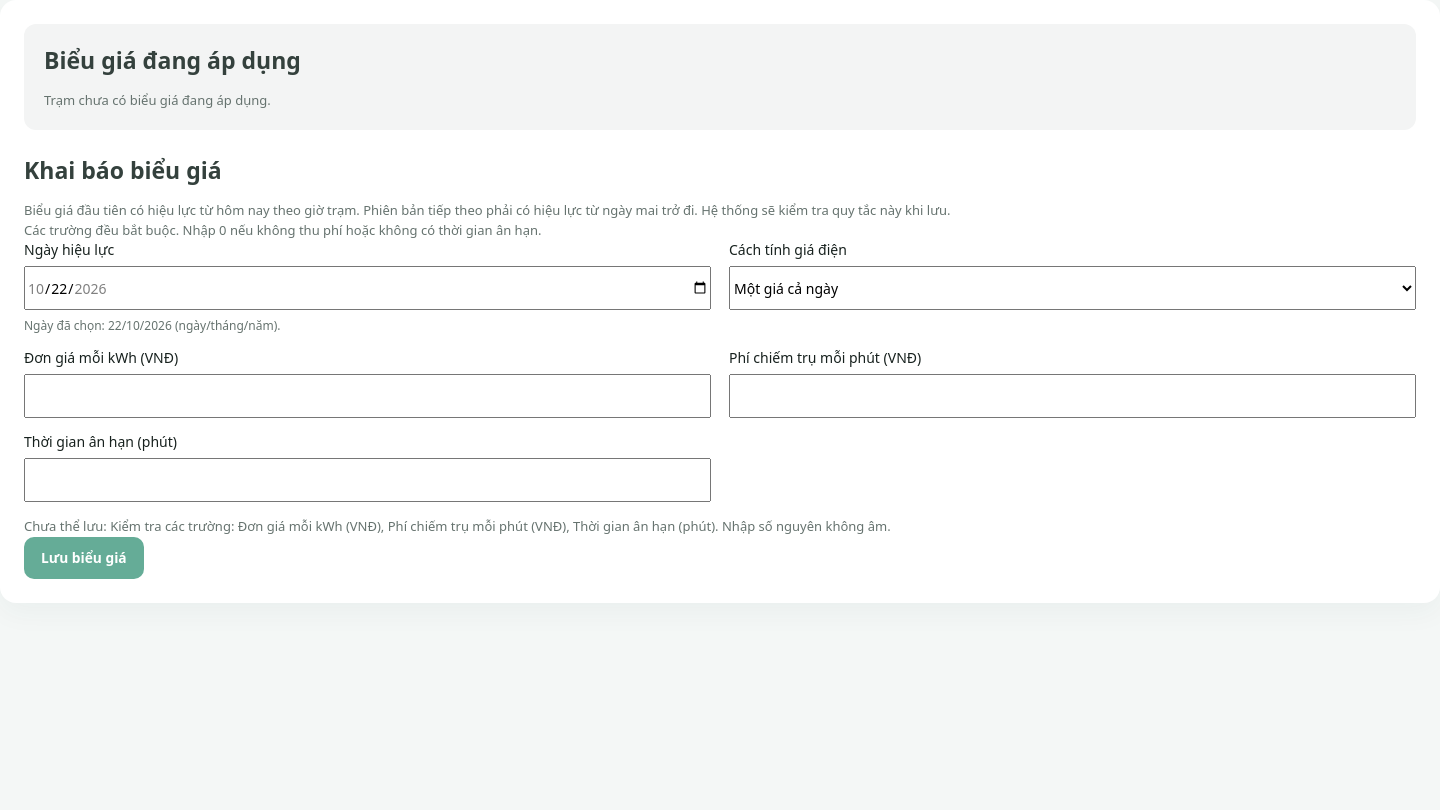
T-62 - Luồng lưu biểu giá › khóa nút lưu khi đang gửi và chỉ tạo một request
Type "3500" into the field labelled "Đơn giá mỗi kWh (VNĐ)" at (368, 396), box [24, 374, 711, 418]
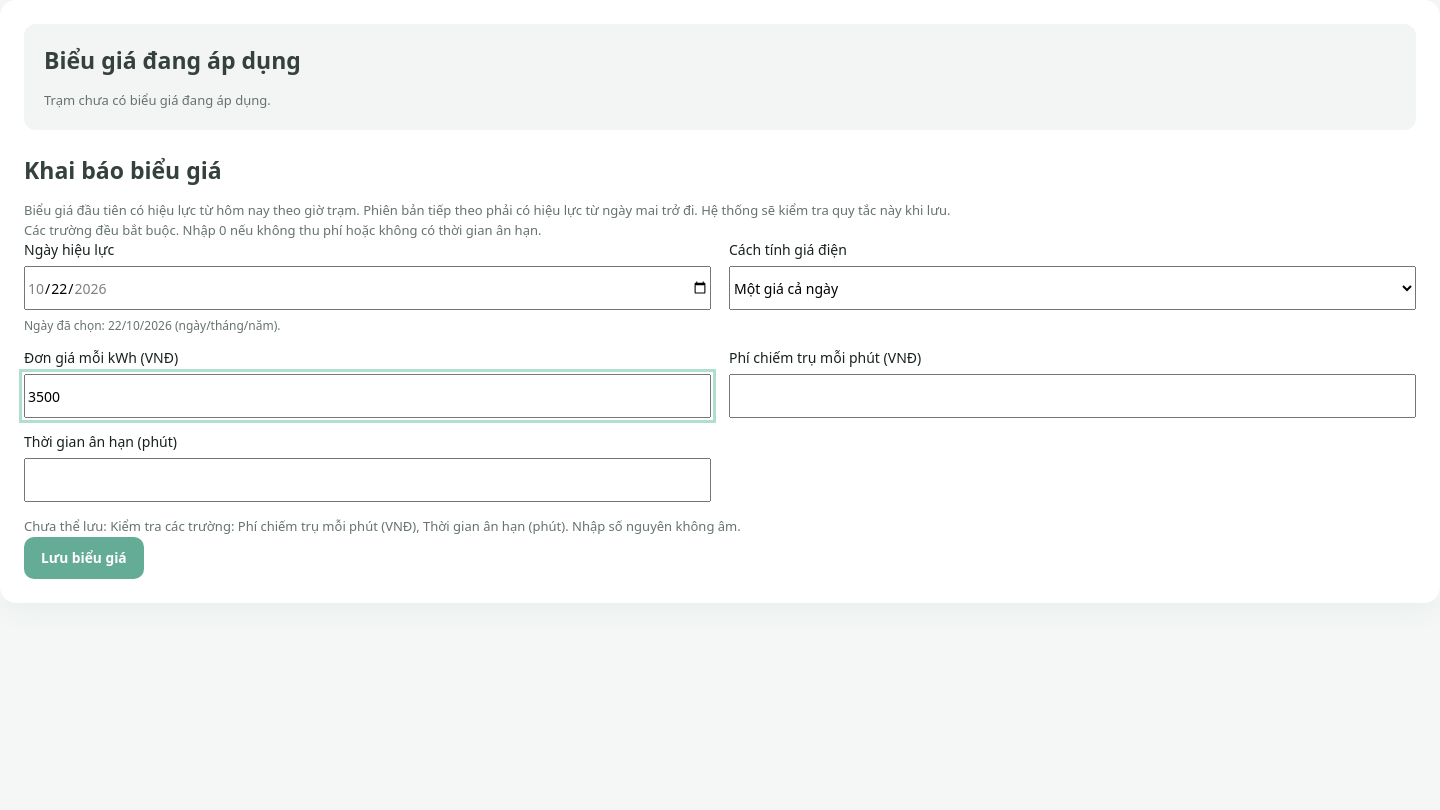
Type "500" into the field labelled "Phí chiếm trụ mỗi phút (VNĐ)" at (1072, 396), box [729, 374, 1416, 418]
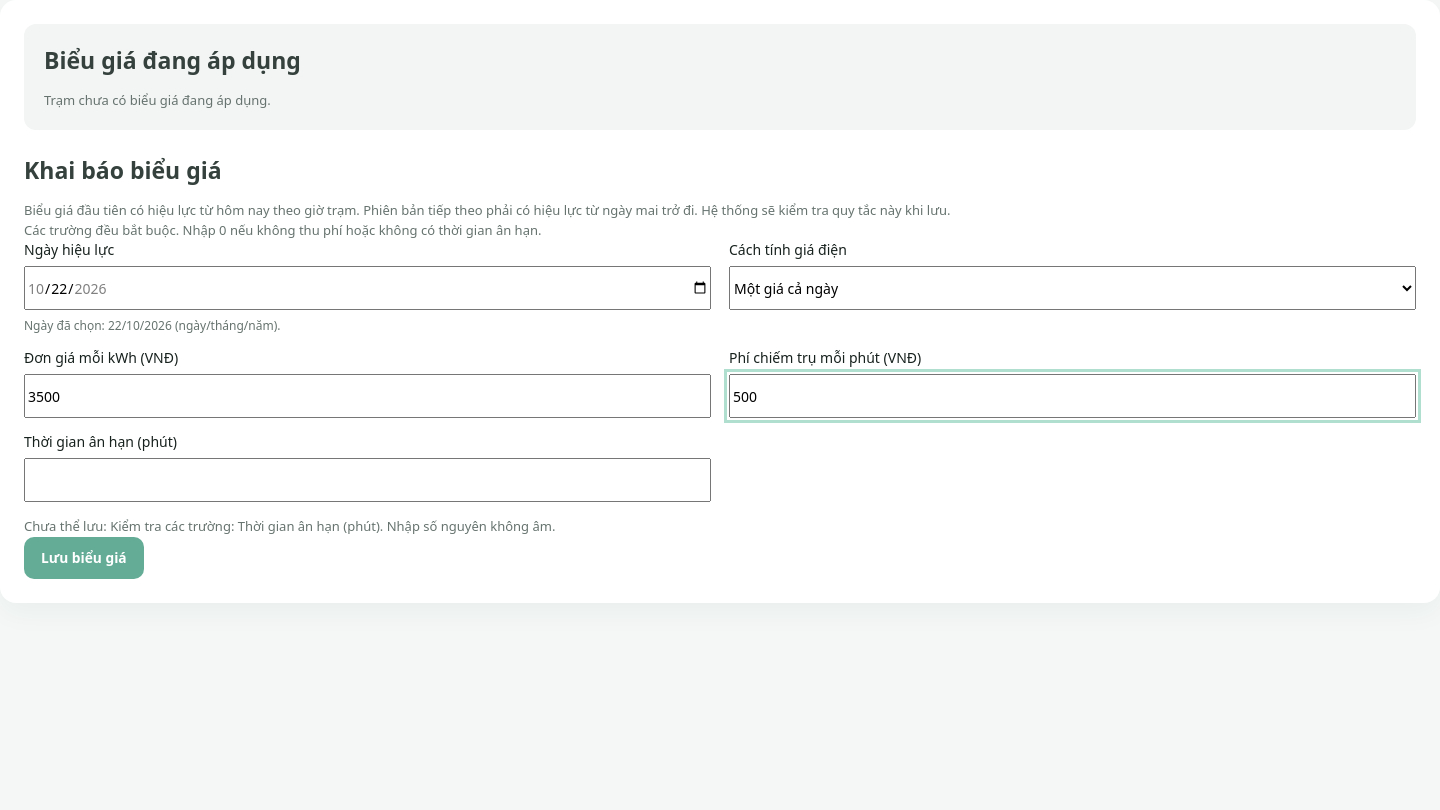
Type "5" into the field labelled "Thời gian ân hạn (phút)" at (368, 480), box [24, 458, 711, 502]
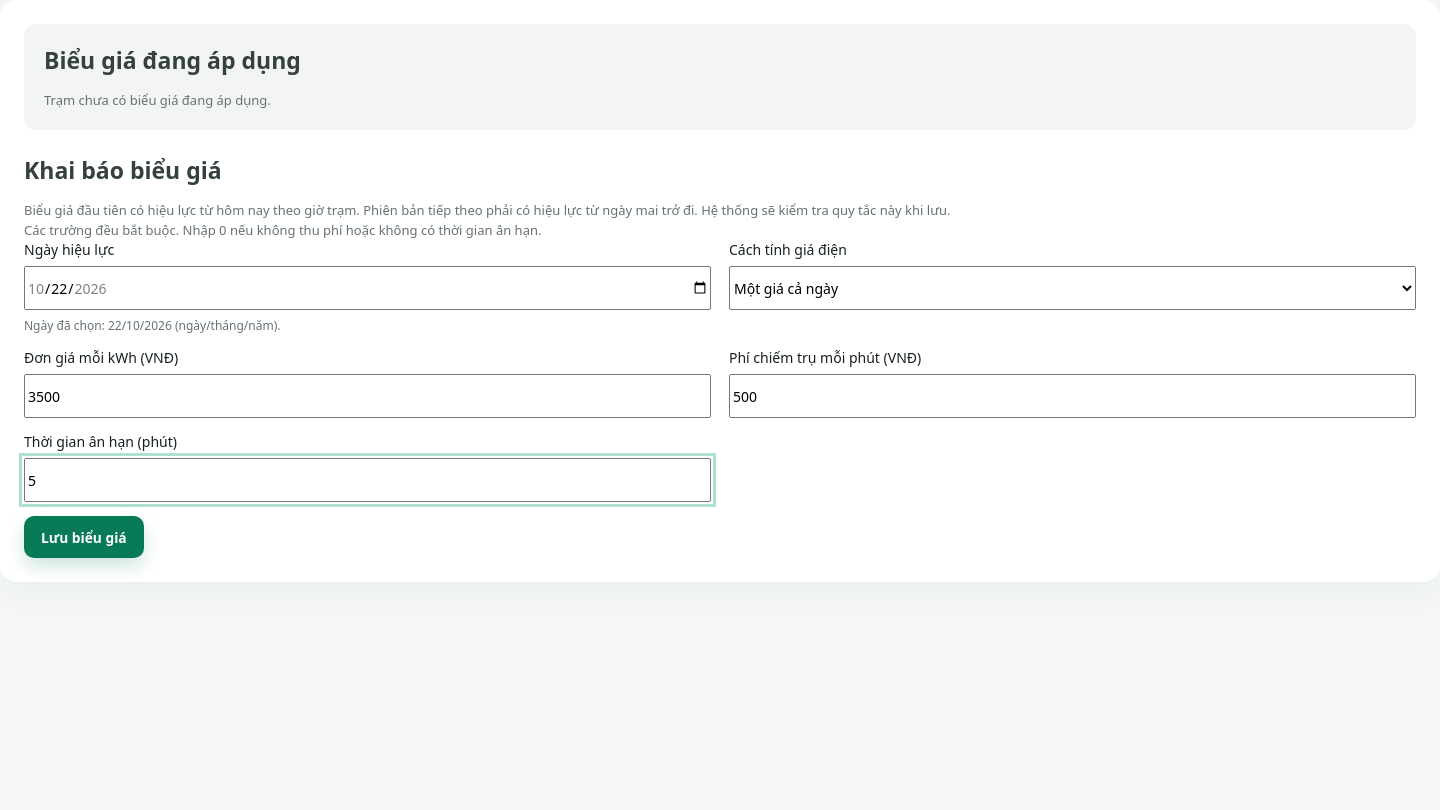
Click the button "Lưu biểu giá" at (84, 537), box [24, 516, 144, 558]
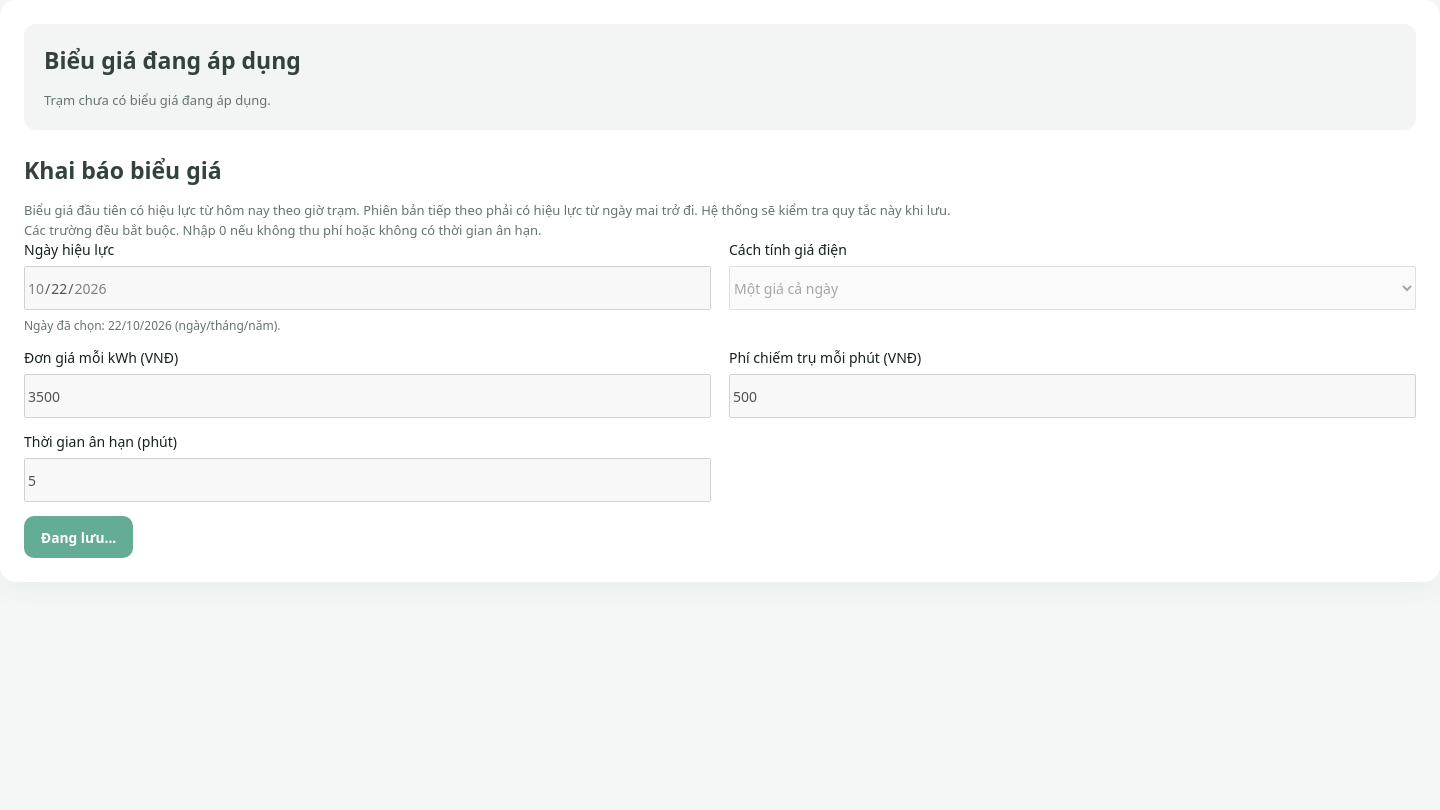
Expected: the button "Đang lưu..." is disabled, [24, 516, 133, 558]
Submit the form, box [24, 240, 1416, 558]
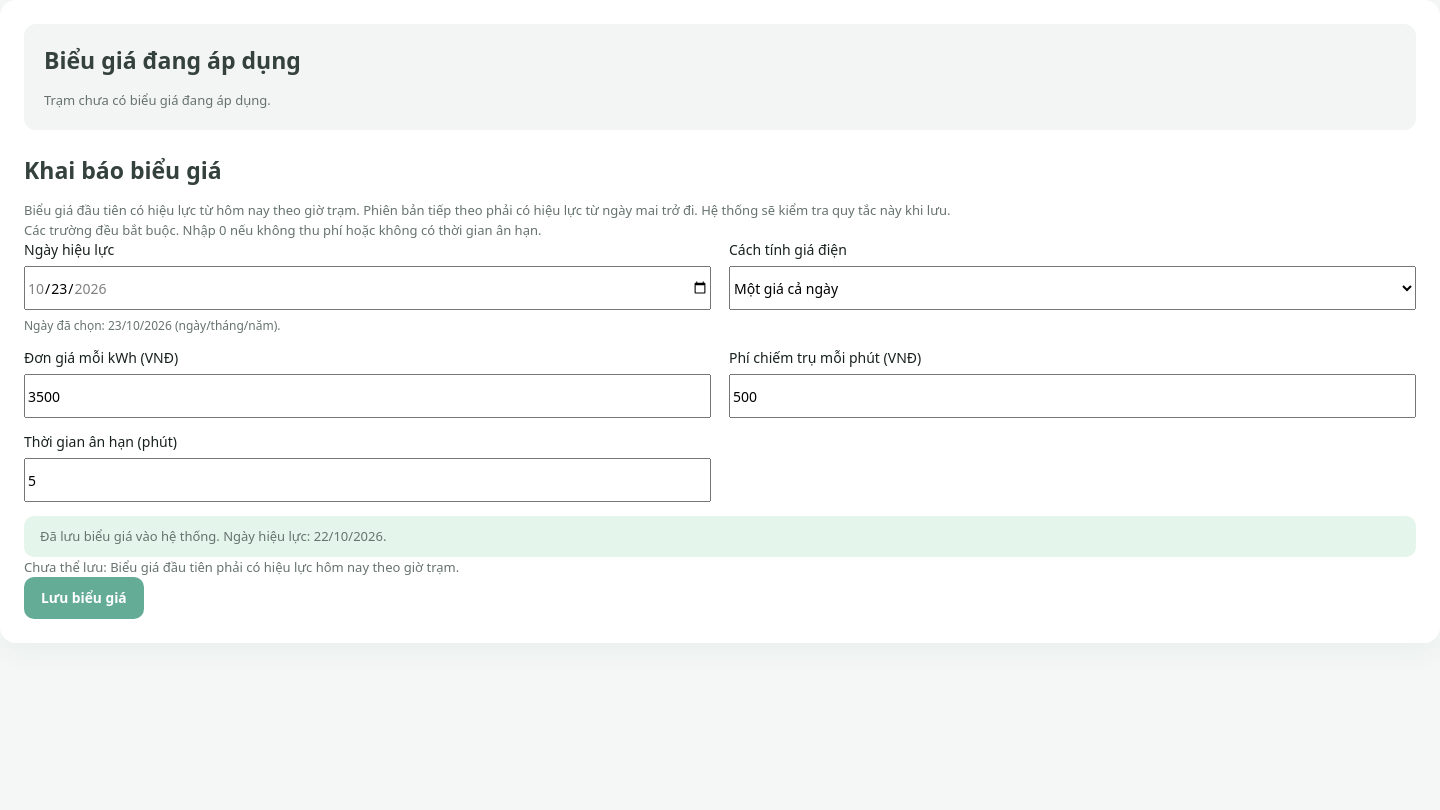
Expected: the text "Đã lưu biểu giá vào hệ thống. Ngày hiệu lực: 22/10/2026." is shown, [24, 516, 1416, 556]
